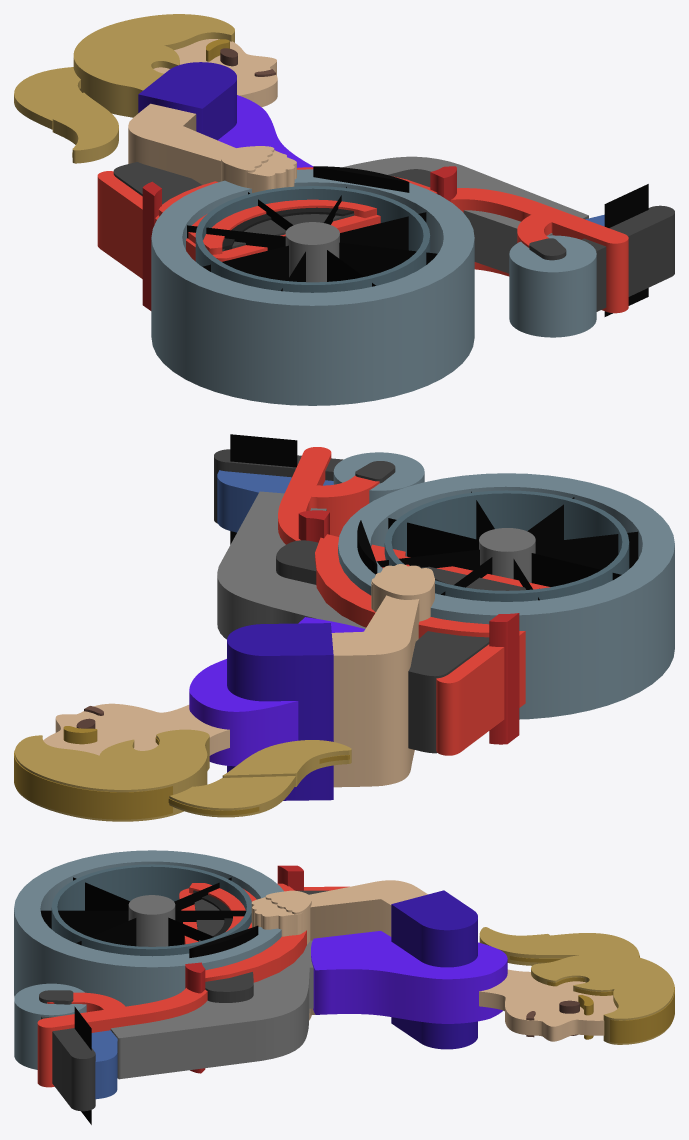
File: emoji_u1f469_1f3fc_200d_1f9bd_200d_27a1.glb
3 renders of one model, top to bottom at view 1: azimuth 30°, elevation 25°; view 2: azimuth 150°, elevation 25°; view 3: azimuth 270°, elevation 25°, orthographic. The views are drawn at different scales.
Parts seen in each view (by area): view 1: emoji_u1f469_1f3fc_200d_1f9bd_200d_27a1; view 2: emoji_u1f469_1f3fc_200d_1f9bd_200d_27a1; view 3: emoji_u1f469_1f3fc_200d_1f9bd_200d_27a1.
Boxes of the visible parts, x1,y1,x2,y2 form: emoji_u1f469_1f3fc_200d_1f9bd_200d_27a1: (14,14,674,405); emoji_u1f469_1f3fc_200d_1f9bd_200d_27a1: (14,434,674,821); emoji_u1f469_1f3fc_200d_1f9bd_200d_27a1: (14,850,674,1124).
Bounding box in the file's own units: 0.0221 × 0.0064 × 0.0322.
